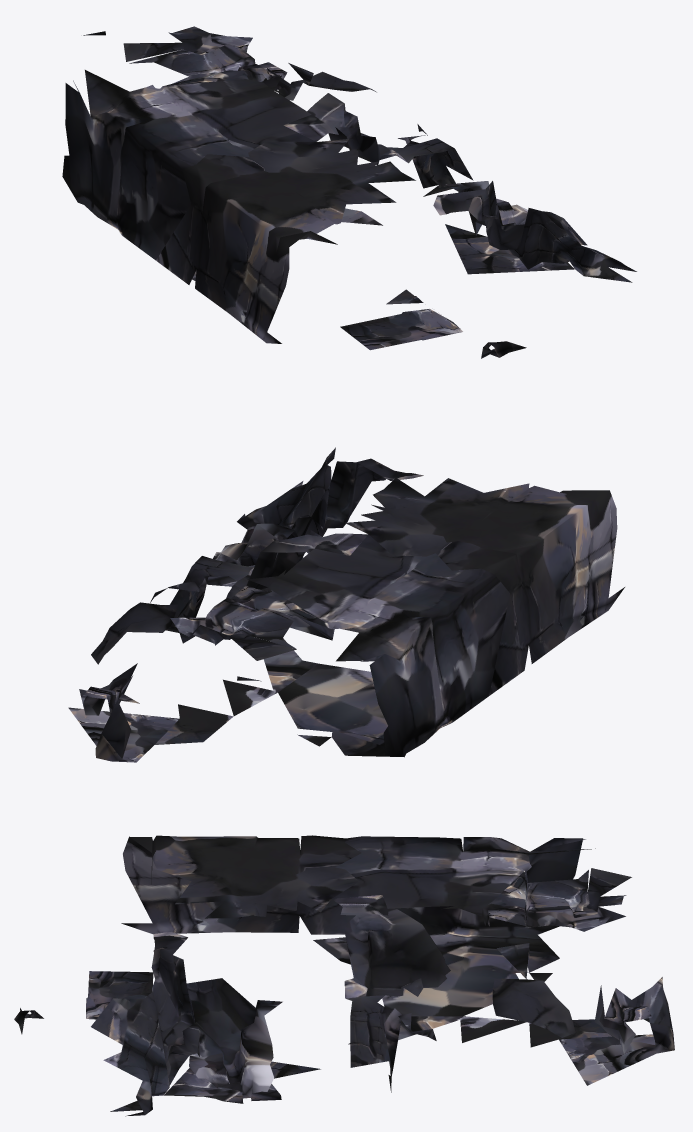
The model's file is RIP0 (3).obj.
3 renders of one model, top to bottom at view 1: azimuth 30°, elevation 25°; view 2: azimuth 150°, elevation 25°; view 3: azimuth 270°, elevation 25°, orthographic. The views are drawn at different scales.
Parts seen in each view (by area): view 1: RIP0; view 2: RIP0; view 3: RIP0.
Part boxes in pixels (x1=…): RIP0: x1=62, y1=26, x2=636, y2=358; RIP0: x1=68, y1=447, x2=624, y2=762; RIP0: x1=14, y1=835, x2=674, y2=1116.
Bounding box in the file's own units: 0.6335 × 0.1936 × 1.
